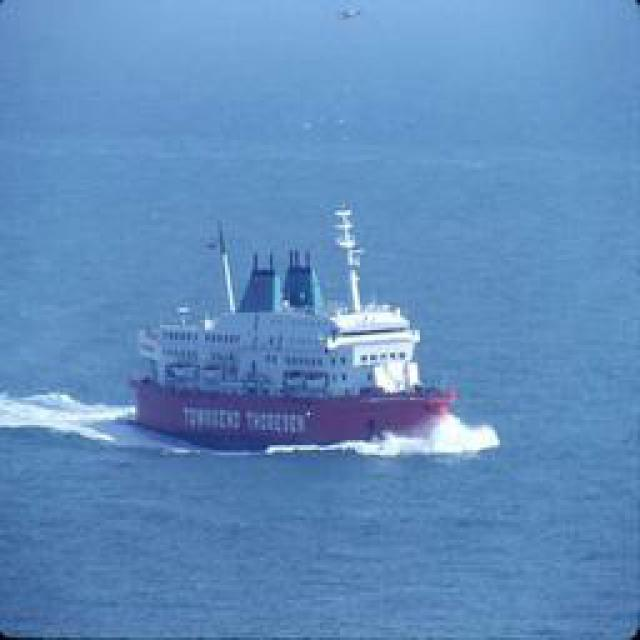Ship: (132, 216, 490, 456)
